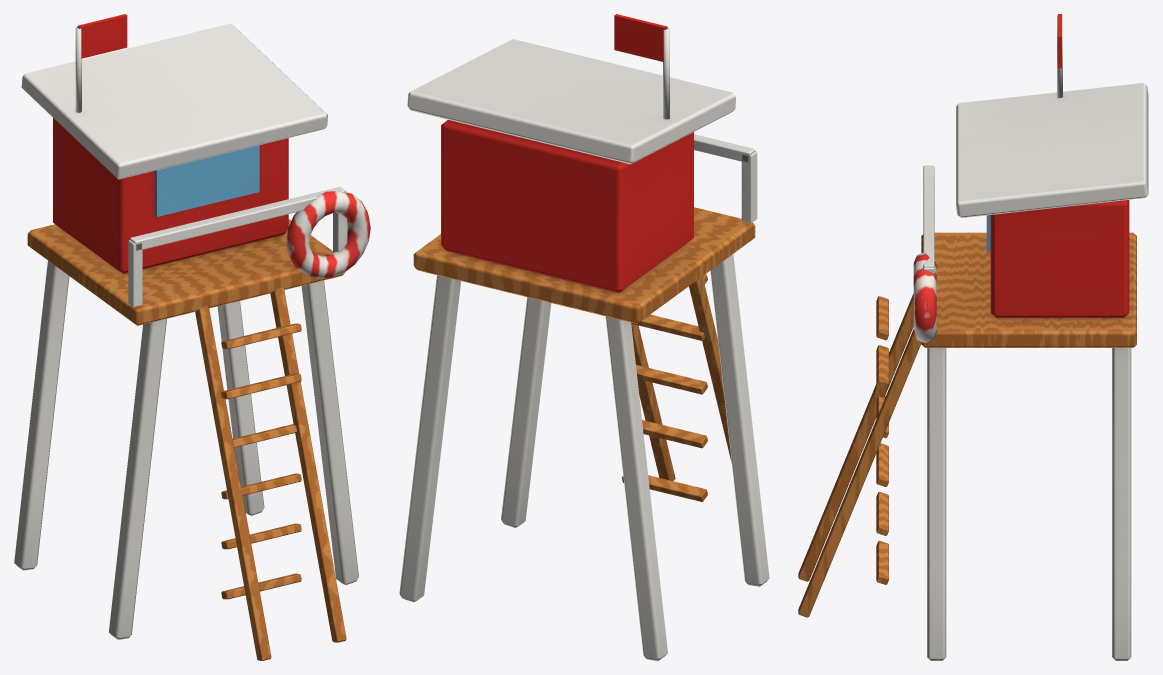
File: lifeguard_tower.glb
3 views of the same model, side by side, from view 1: azimuth 30°, elevation 25°; view 2: azimuth 150°, elevation 25°; view 3: azimuth 270°, elevation 25° (orthographic). The views are drawn at different scales.
Visible parts, largest first — view 1: lifeguard_tower; view 2: lifeguard_tower; view 3: lifeguard_tower.
Part boxes in pixels (x1,y1,x2,y2): lifeguard_tower: (14, 14, 370, 660); lifeguard_tower: (399, 14, 769, 660); lifeguard_tower: (798, 14, 1148, 660).
Size of the model in its own units: 0.7378 by 1.57 by 0.9089.
Materials: 1 (1 with a texture image).
